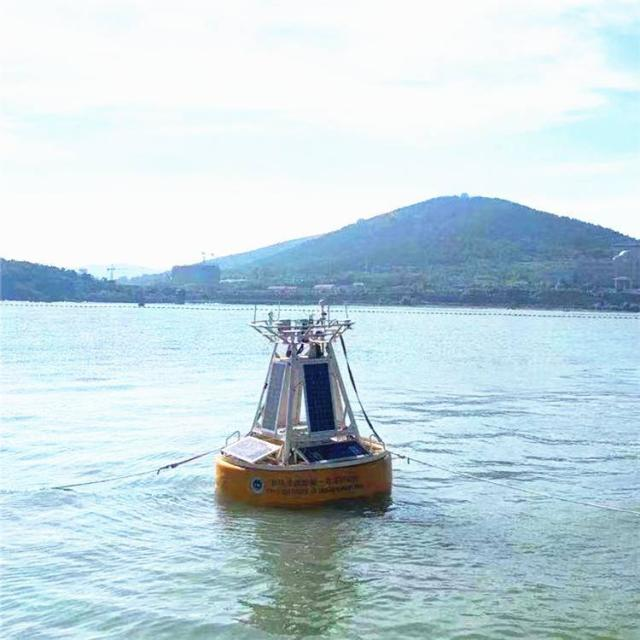buoy: (213, 305, 397, 511)
